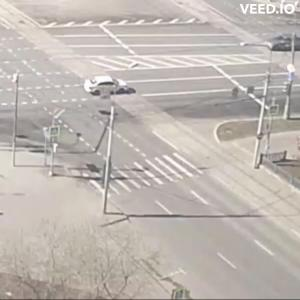car: (86, 73, 132, 98), (268, 32, 300, 54)
